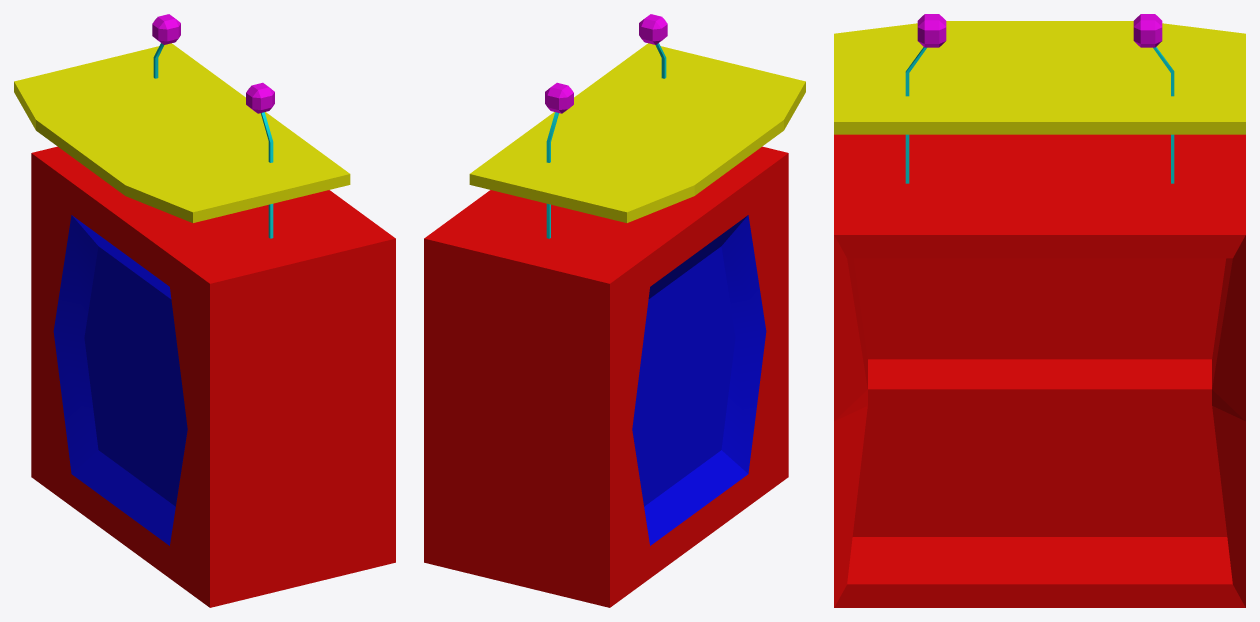
The model's file is Kundentheke_2_gerade_low.fbx.
The picture shows the model from 3 angles, left to right: view 1: azimuth 30°, elevation 25°; view 2: azimuth 150°, elevation 25°; view 3: azimuth 270°, elevation 25°; orthographic projection. The views are drawn at different scales.
Visible parts, largest first — view 1: Kundentheke_2_gerade_low; view 2: Kundentheke_2_gerade_low; view 3: Kundentheke_2_gerade_low.
Part boxes in pixels (x1,y1,x2,y2): Kundentheke_2_gerade_low: (14,14,395,607); Kundentheke_2_gerade_low: (424,14,805,607); Kundentheke_2_gerade_low: (834,14,1245,607).
Bounding box in the file's own units: 0.7291 × 1.44 × 1.
